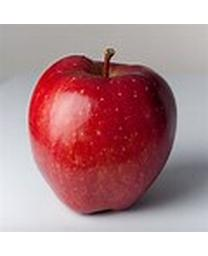apple: (25, 47, 176, 215)
